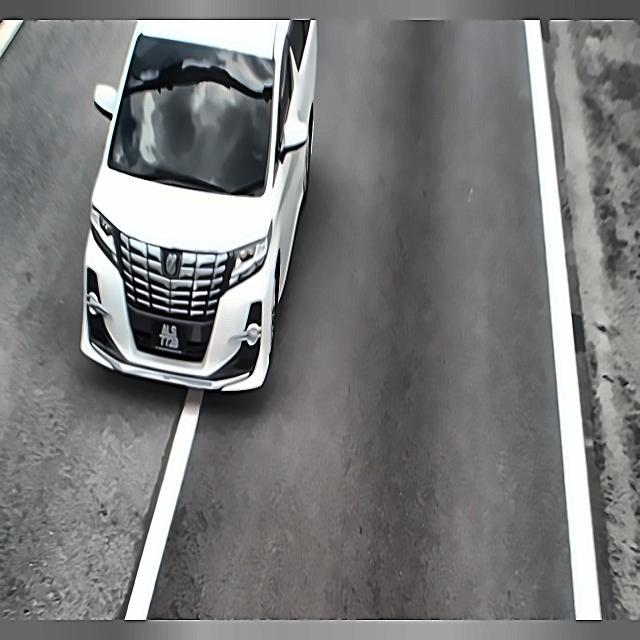car: (151, 315, 186, 362)
